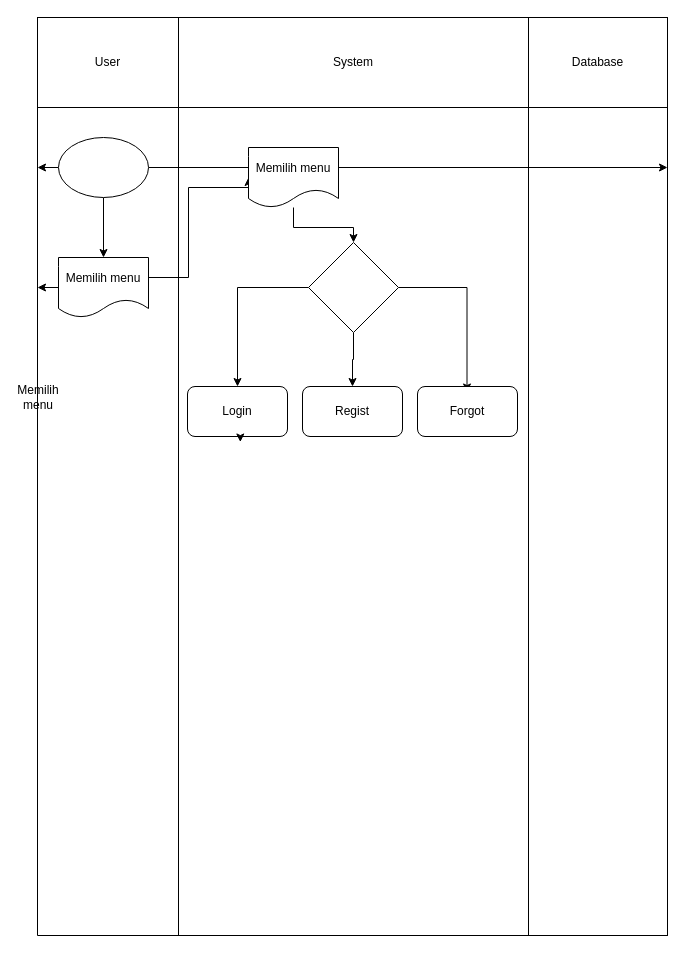
The diagram is 693 pixels wide and 953 high, and some of its shapes have lost their labels. Here are the shapes that lost their labels. From the top down, the centre of each, then its label:
the point at 103,167: Start
the point at 353,287: Login Regist Forgot
